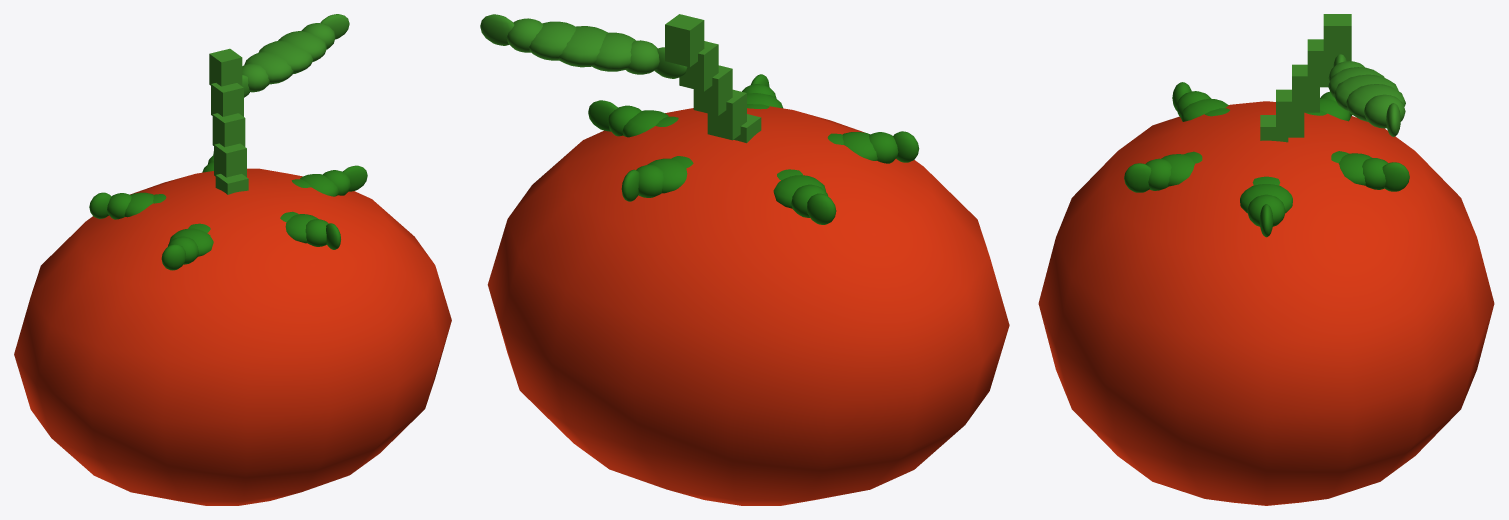
The model's file is CMU3DRedTomato.glb.
3 views of the same model, side by side, from view 1: azimuth 30°, elevation 25°; view 2: azimuth 150°, elevation 25°; view 3: azimuth 270°, elevation 25° (orthographic). The views are drawn at different scales.
Parts seen in each view (by area): view 1: tomato body, tomato stem (×5), tomato green calyx (×6), tomato trailing green leaf (×4); view 2: tomato body, tomato green calyx (×11), tomato trailing green leaf (×6), tomato stem (×4); view 3: tomato body, tomato green calyx (×9), tomato stem (×4), tomato trailing green leaf (×4).
Boxes of the visible parts, x1,y1,x2,y2 form: tomato body: (14, 168, 451, 505); tomato stem (×5): (209, 48, 248, 194); tomato green calyx (×6): (107, 174, 338, 270); tomato trailing green leaf (×4): (242, 31, 326, 92); tomato body: (487, 106, 1009, 505); tomato green calyx (×11): (588, 100, 919, 224); tomato trailing green leaf (×6): (480, 14, 659, 74); tomato stem (×4): (665, 14, 746, 140); tomato body: (1038, 101, 1494, 505); tomato green calyx (×9): (1124, 98, 1409, 226); tomato stem (×4): (1276, 14, 1351, 137); tomato trailing green leaf (×4): (1328, 67, 1405, 128).
Size of the model in its own units: 0.396 by 0.3862 by 0.34.
